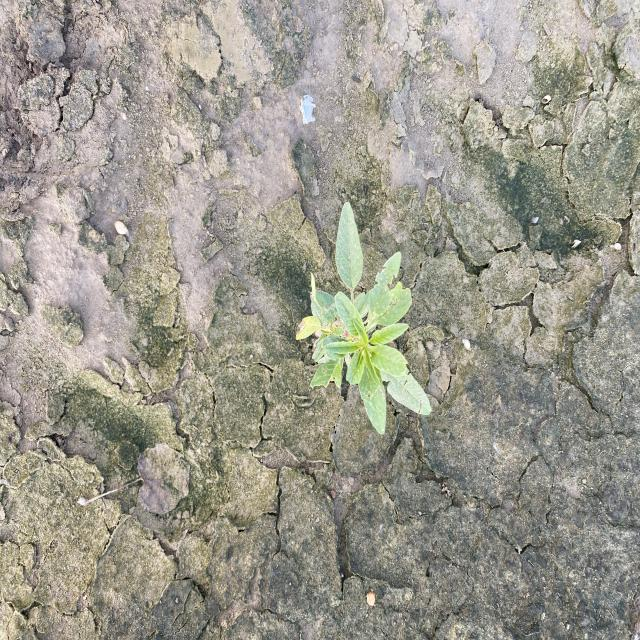Waterhemp: (294, 200, 433, 437)
